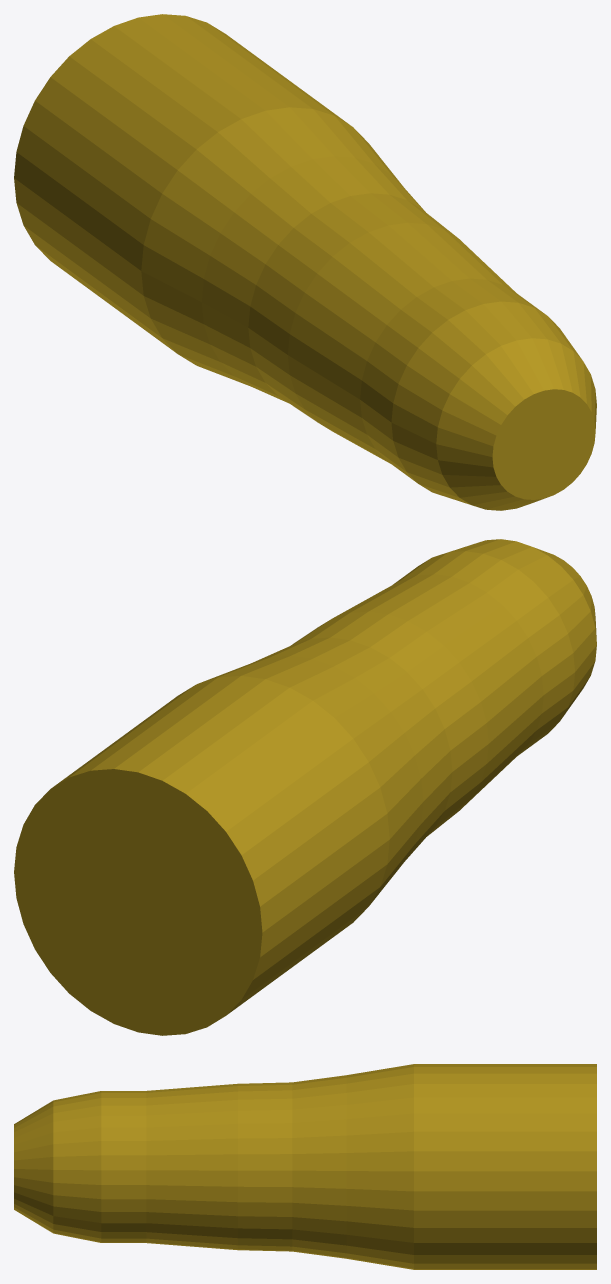
File: bullet.fbx
3 renders of one model, top to bottom at view 1: azimuth 30°, elevation 25°; view 2: azimuth 150°, elevation 25°; view 3: azimuth 270°, elevation 25°, orthographic. The views are drawn at different scales.
Parts seen in each view (by area): view 1: Cylinder; view 2: Cylinder; view 3: Cylinder.
Part boxes in pixels (x1=…): Cylinder: x1=14, y1=14, x2=596, y2=510; Cylinder: x1=14, y1=539, x2=596, y2=1035; Cylinder: x1=14, y1=1064, x2=596, y2=1269.
Size of the model in its own units: 9.94 by 9.94 by 28.12.
